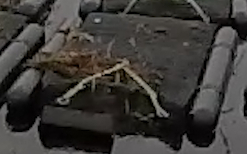bag: (6, 12, 238, 132)
